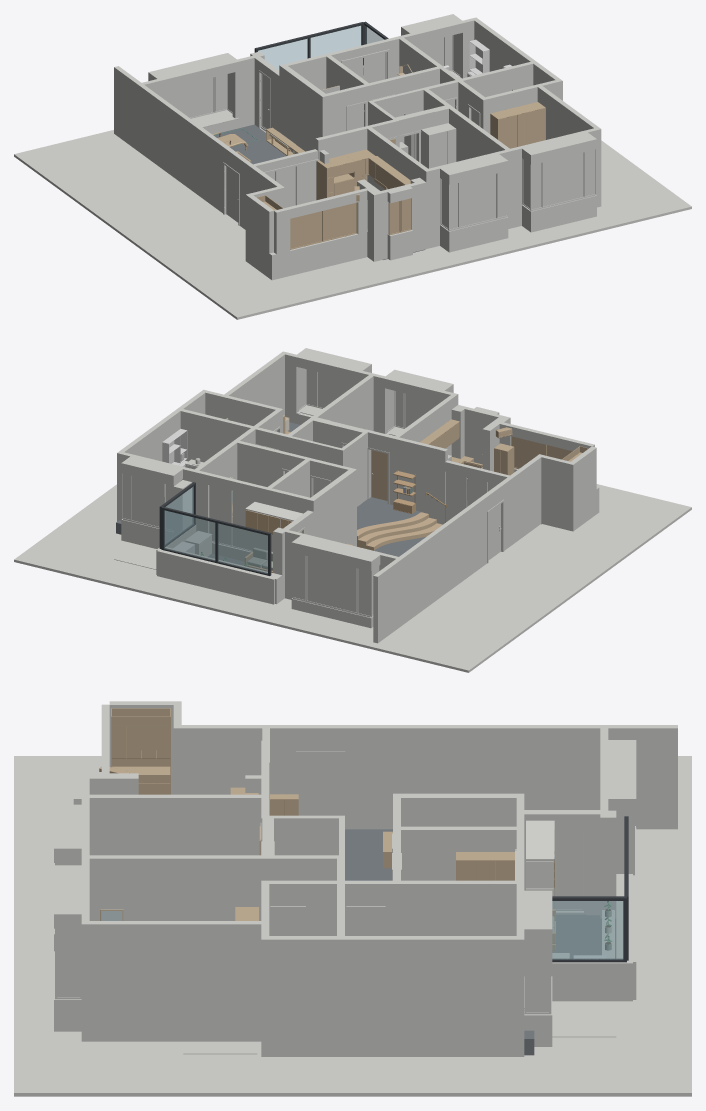
File: interaction_proxy.glb
The picture shows the model from 3 angles, top to bottom: view 1: azimuth 30°, elevation 25°; view 2: azimuth 150°, elevation 25°; view 3: azimuth 270°, elevation 25°; orthographic projection. The views are drawn at different scales.
Parts seen in each view (by area): view 1: SITE_GROUND.001, VIEW_WALL_W_wall_md_0006.001, VIEW_WALL_LIVING_FIX_GUEST_BATH_FULL_WALL.001, VIEW_WALL_W_wall_md_0042.001, VIEW_WALL_W_wall_md_0035.001, V4_W-MB-S_FRONT_GLASS_1.001, VIEW_WALL_W_wall_md_0034.001, V4_W-SMB-S_FRONT_GLASS_1.001, VIEW_WALL_W_wall_md_0007.001, VIEW_WALL_W_wall_md_0021.001, VIEW_WALL_W_wall_md_0030.001, VIEW_WALL_W_wall_md_0060.001 (+46 smaller); view 2: SITE_GROUND.001, VIEW_WALL_W_wall_md_0006.001, VIEW_WALL_W_wall_md_0062.001, VIEW_WALL_W_wall_md_0005.001, VIEW_WALL_W_wall_md_0044.001, VIEW_WALL_W_wall_md_0043.001, VIEW_WALL_LIVING_FIX_GUEST_BATH_FULL_WALL.001, LIVING_FIX_BAY_FRONT_GLASS_1.001, VIEW_WALL_W_wall_md_0049.001, VIEW_WALL_W_wall_md_0055.001, NORTH_BALCONY_GLASS_NORTH_B.001, VIEW_WALL_W_wall_md_0007.001 (+55 smaller); view 3: SITE_GROUND.001, VIEW_WALL_W_wall_md_0030.001, VIEW_WALL_W_wall_md_0033.001, VIEW_WALL_W_wall_md_0006.001, VIEW_WALL_W_wall_md_0021.001, VIEW_WALL_W_wall_md_0015.001, VIEW_WALL_W_wall_md_0032.001, VIEW_WALL_W_wall_md_0005.001, VIEW_WALL_W_wall_md_0025.001, VIEW_WALL_W_wall_md_0007.001, VIEW_WALL_W_wall_md_0019.001, NORTH_BALCONY_GLASS_EAST.001 (+38 smaller).
Part boxes in pixels (x1,y1,x2,y2): SITE_GROUND.001: [14, 128, 691, 319]; VIEW_WALL_W_wall_md_0006.001: [139, 85, 227, 212]; VIEW_WALL_LIVING_FIX_GUEST_BATH_FULL_WALL.001: [282, 66, 325, 153]; VIEW_WALL_W_wall_md_0042.001: [276, 232, 367, 278]; VIEW_WALL_W_wall_md_0035.001: [533, 139, 594, 231]; V4_W-MB-S_FRONT_GLASS_1.001: [543, 152, 583, 206]; VIEW_WALL_W_wall_md_0034.001: [451, 161, 505, 251]; V4_W-SMB-S_FRONT_GLASS_1.001: [460, 174, 496, 226]; VIEW_WALL_W_wall_md_0007.001: [114, 66, 141, 150]; VIEW_WALL_W_wall_md_0021.001: [449, 107, 509, 161]; VIEW_WALL_W_wall_md_0030.001: [537, 86, 598, 139]; VIEW_WALL_W_wall_md_0060.001: [232, 55, 254, 128]; SITE_GROUND.001: [14, 484, 691, 672]; VIEW_WALL_W_wall_md_0006.001: [399, 495, 487, 624]; VIEW_WALL_W_wall_md_0062.001: [157, 547, 277, 604]; VIEW_WALL_W_wall_md_0005.001: [499, 456, 541, 550]; VIEW_WALL_W_wall_md_0044.001: [396, 437, 441, 523]; VIEW_WALL_W_wall_md_0043.001: [541, 455, 575, 531]; VIEW_WALL_LIVING_FIX_GUEST_BATH_FULL_WALL.001: [311, 470, 354, 545]; LIVING_FIX_BAY_FRONT_GLASS_1.001: [307, 556, 356, 612]; VIEW_WALL_W_wall_md_0049.001: [180, 409, 253, 462]; VIEW_WALL_W_wall_md_0055.001: [196, 470, 266, 561]; NORTH_BALCONY_GLASS_NORTH_B.001: [164, 510, 215, 560]; VIEW_WALL_W_wall_md_0007.001: [373, 559, 400, 643]; SITE_GROUND.001: [14, 756, 691, 1096]; VIEW_WALL_W_wall_md_0030.001: [89, 921, 261, 1041]; VIEW_WALL_W_wall_md_0033.001: [345, 936, 516, 1056]; VIEW_WALL_W_wall_md_0006.001: [345, 725, 600, 829]; VIEW_WALL_W_wall_md_0021.001: [89, 855, 261, 920]; VIEW_WALL_W_wall_md_0015.001: [89, 794, 261, 855]; VIEW_WALL_W_wall_md_0032.001: [261, 936, 336, 1056]; VIEW_WALL_W_wall_md_0005.001: [181, 725, 296, 794]; VIEW_WALL_W_wall_md_0025.001: [401, 880, 516, 935]; VIEW_WALL_W_wall_md_0007.001: [608, 725, 677, 829]; VIEW_WALL_W_wall_md_0019.001: [401, 826, 516, 880]; NORTH_BALCONY_GLASS_EAST.001: [552, 901, 623, 959].
Size of the model in its own units: 20 by 3.37 by 17.
